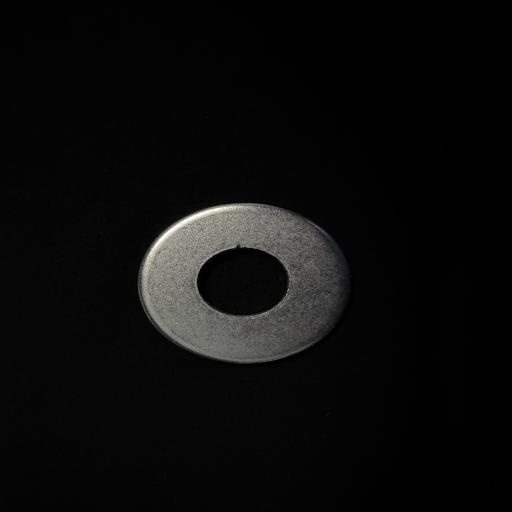Product: (138, 203, 350, 363)
chip off: (224, 238, 249, 253)
